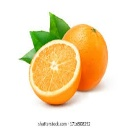orange: (29, 39, 82, 106)
